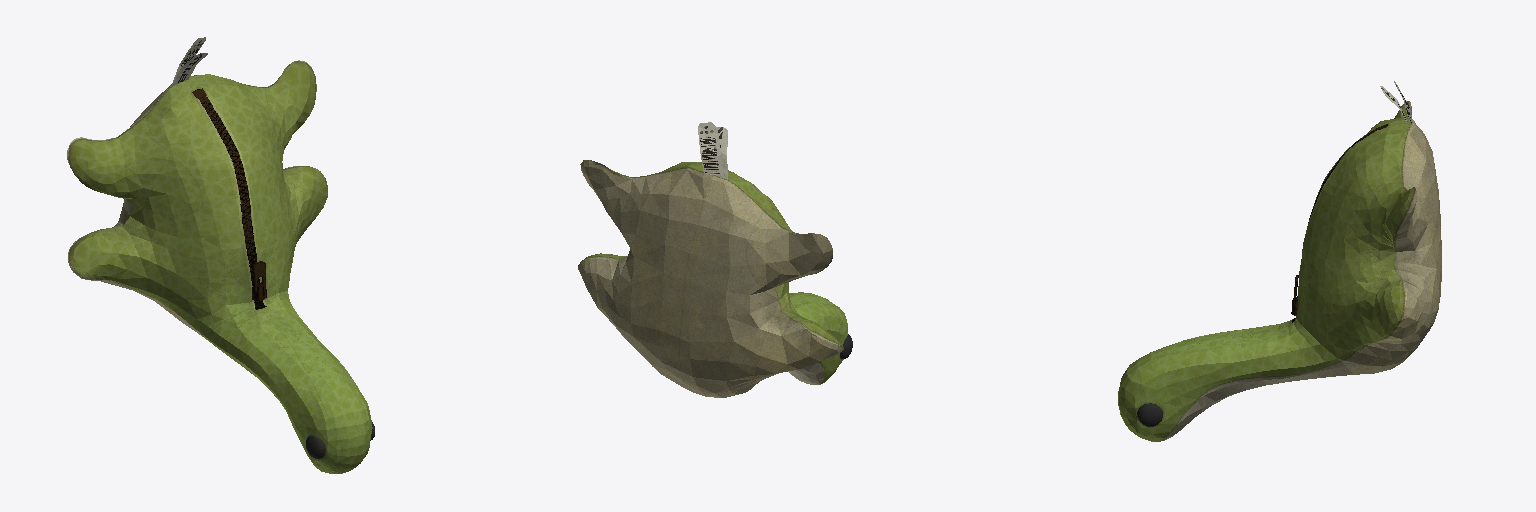
3 views of the same model, side by side, from view 1: azimuth 30°, elevation 25°; view 2: azimuth 150°, elevation 25°; view 3: azimuth 270°, elevation 25° (orthographic).
Visible parts, largest first — view 1: SEModelMesh.001; view 2: SEModelMesh.001; view 3: SEModelMesh.001.
Boxes of the visible parts, x1=… form: SEModelMesh.001: x1=67, y1=37, x2=374, y2=473; SEModelMesh.001: x1=578, y1=122, x2=852, y2=397; SEModelMesh.001: x1=1118, y1=81, x2=1441, y2=441.
Bounding box in the file's own units: 0.4218 × 0.5445 × 0.4544.
Materials: 1 (1 with a texture image).